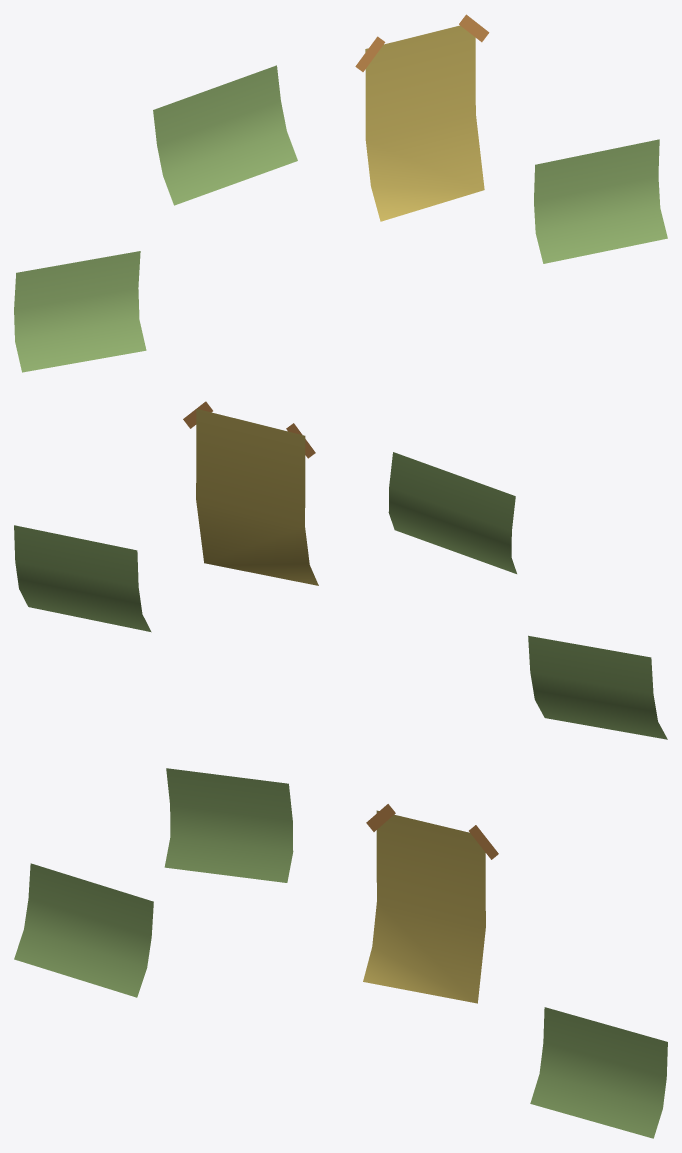
File: SM_Wall_Postits_GRP_03.fbx
3 views of the same model, one above another, from view 1: azimuth 30°, elevation 25°; view 2: azimuth 150°, elevation 25°; view 3: azimuth 330°, elevation 25° (orthographic).
Parts seen in each view (by area): view 1: SM_Wall_Postits_GRP_03; view 2: SM_Wall_Postits_GRP_03; view 3: SM_Wall_Postits_GRP_03.
Boxes of the visible parts, <box> form: SM_Wall_Postits_GRP_03: <box>14,14,667,372</box>; SM_Wall_Postits_GRP_03: <box>14,401,667,739</box>; SM_Wall_Postits_GRP_03: <box>14,768,667,1138</box>.
Bounding box in the file's own units: 62.66 × 24.22 × 2.41.
